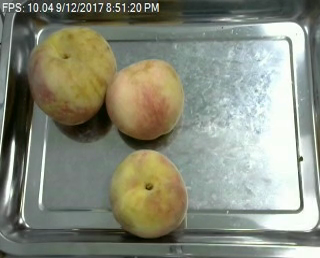Peach: (27, 25, 114, 124), (108, 150, 189, 238), (107, 58, 185, 138)
